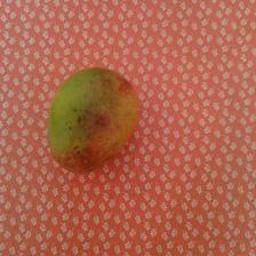Mango Semifresh: (43, 58, 146, 168)
